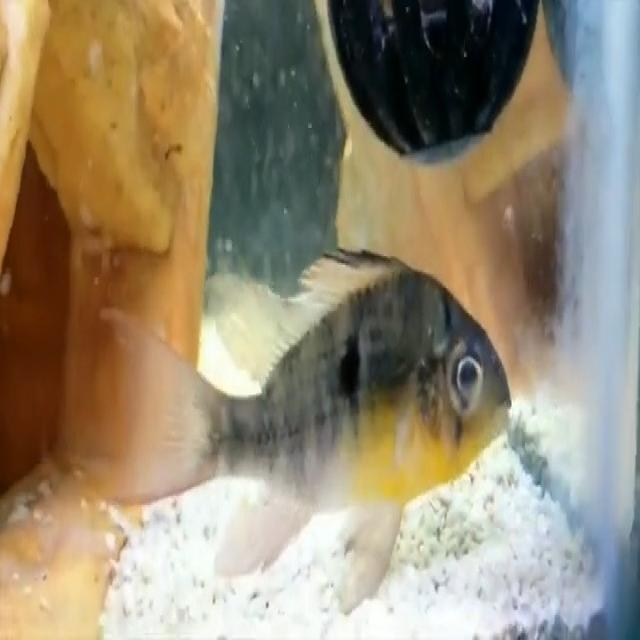fish: (103, 250, 520, 618)
